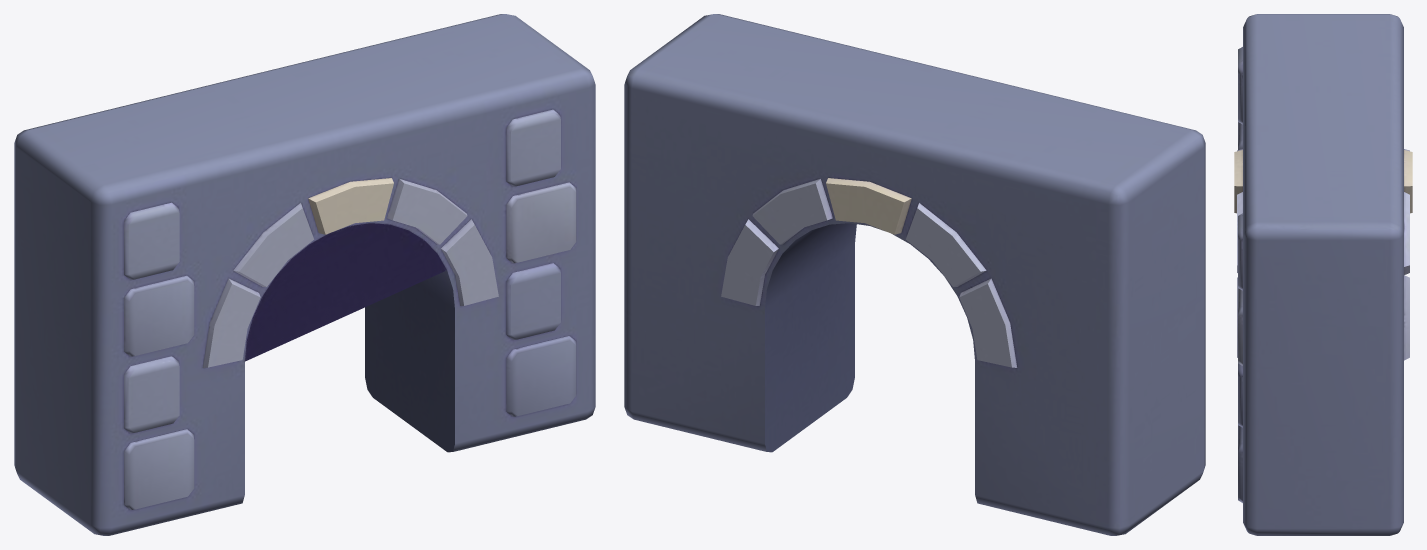
File: kemer.glb
3 renders of one model, left to right at view 1: azimuth 30°, elevation 25°; view 2: azimuth 150°, elevation 25°; view 3: azimuth 270°, elevation 25°, orthographic. The views are drawn at different scales.
Parts seen in each view (by area): view 1: kemer; view 2: kemer; view 3: kemer.
Boxes of the visible parts, x1,y1,x2,y2 form: kemer: (14, 14, 595, 535); kemer: (624, 14, 1205, 535); kemer: (1234, 14, 1412, 535).
Size of the model in its own units: 4.6 by 3.07 by 1.58.
1 material, 1 textured.
